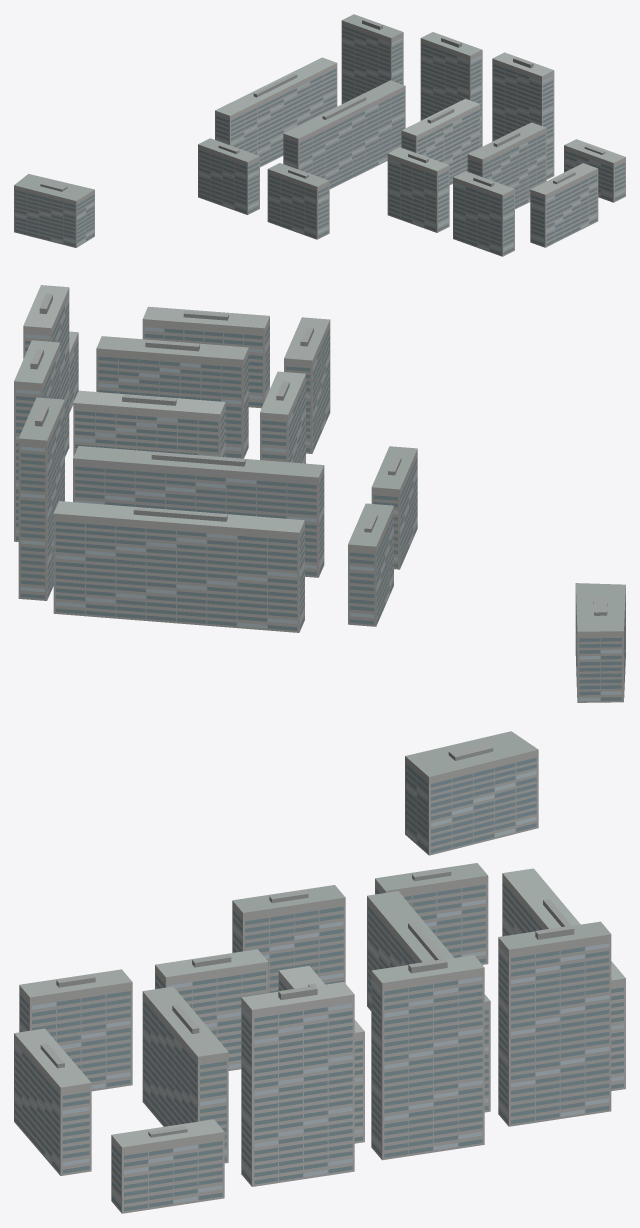
File: apt-a15383307.glb
3 renders of one model, top to bottom at view 1: azimuth 30°, elevation 25°; view 2: azimuth 150°, elevation 25°; view 3: azimuth 270°, elevation 25°, orthographic. The views are drawn at different scales.
Visible parts, largest first — view 1: apt-a15383307; view 2: apt-a15383307; view 3: apt-a15383307.
Boxes of the visible parts, box(x1,y1,x2,y2) form: apt-a15383307: box(14, 14, 625, 256); apt-a15383307: box(14, 285, 625, 702); apt-a15383307: box(14, 731, 625, 1213).
Size of the model in its own units: 358 by 75.6 by 229.
